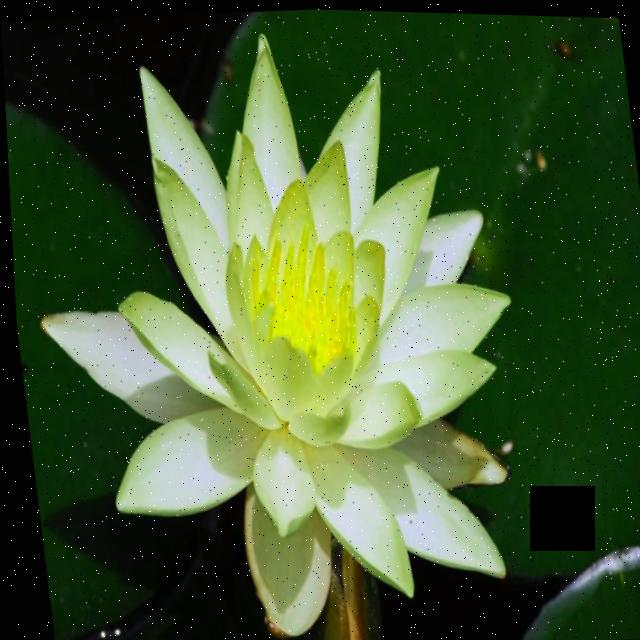rose: (0, 0, 592, 640)
